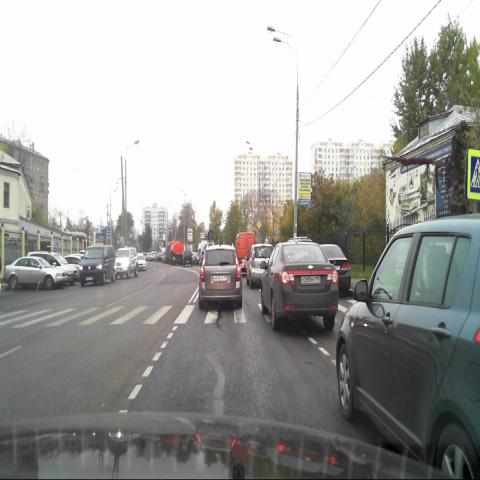5_19_1: (466, 148, 480, 198)
